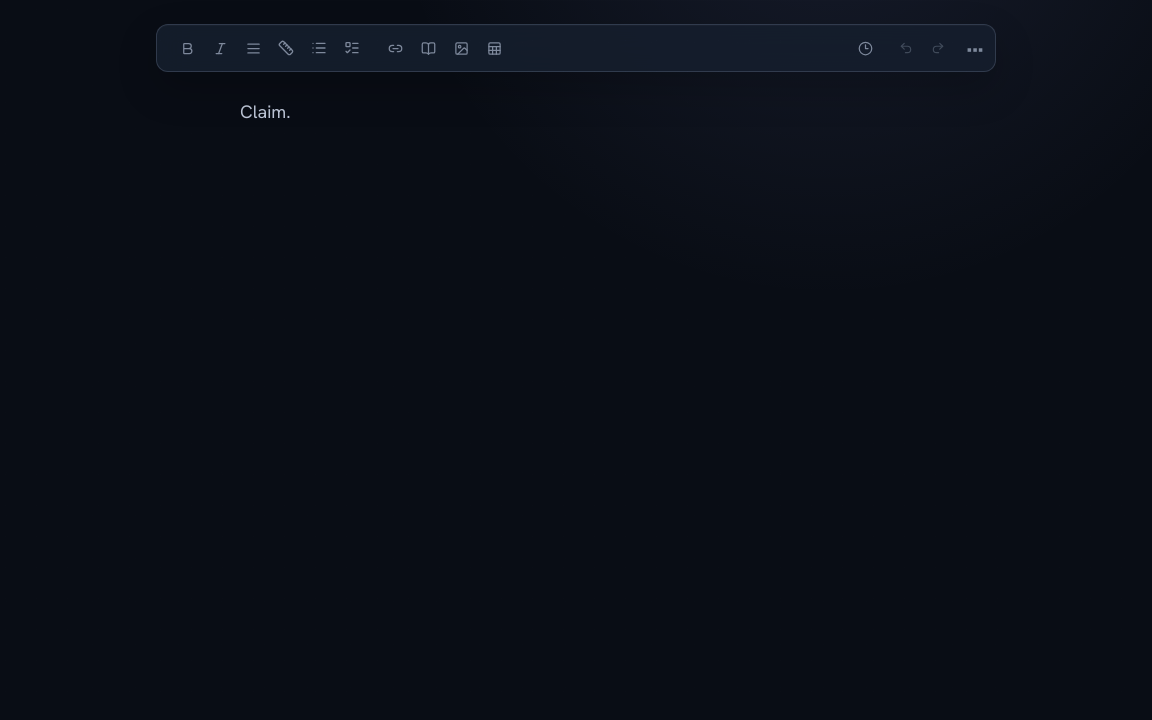
Scenario: RichNoteEditor source citations › lists attached sources first and writes a portable citation
Step 1. Click the button named "Cite a source" → (428, 48), box [413,33,443,63]
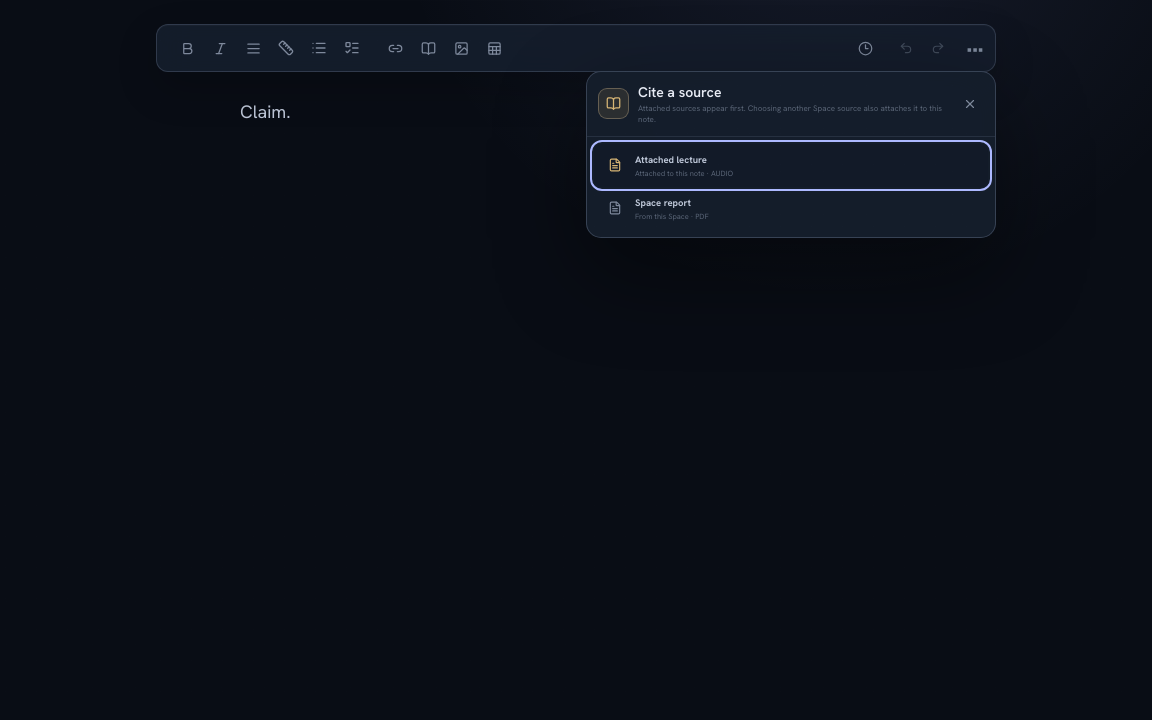
Now the button "Attached lecture Attached to this note · AUDIO" is shown, box [594,144,988,187]
Step 2. Press Escape in the dialog "Cite a source", box [586,71,996,238]
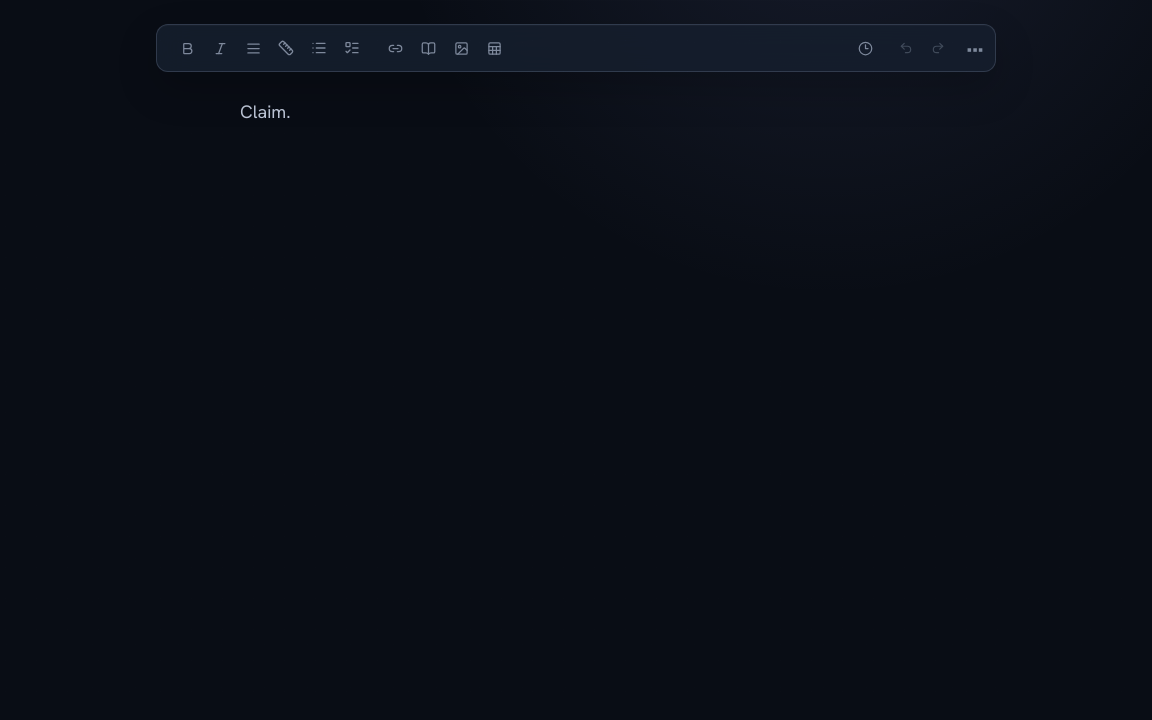
Now the text "Cite a source" is gone
Step 3. Click the button named "Cite a source" → (428, 48), box [413,33,443,63]
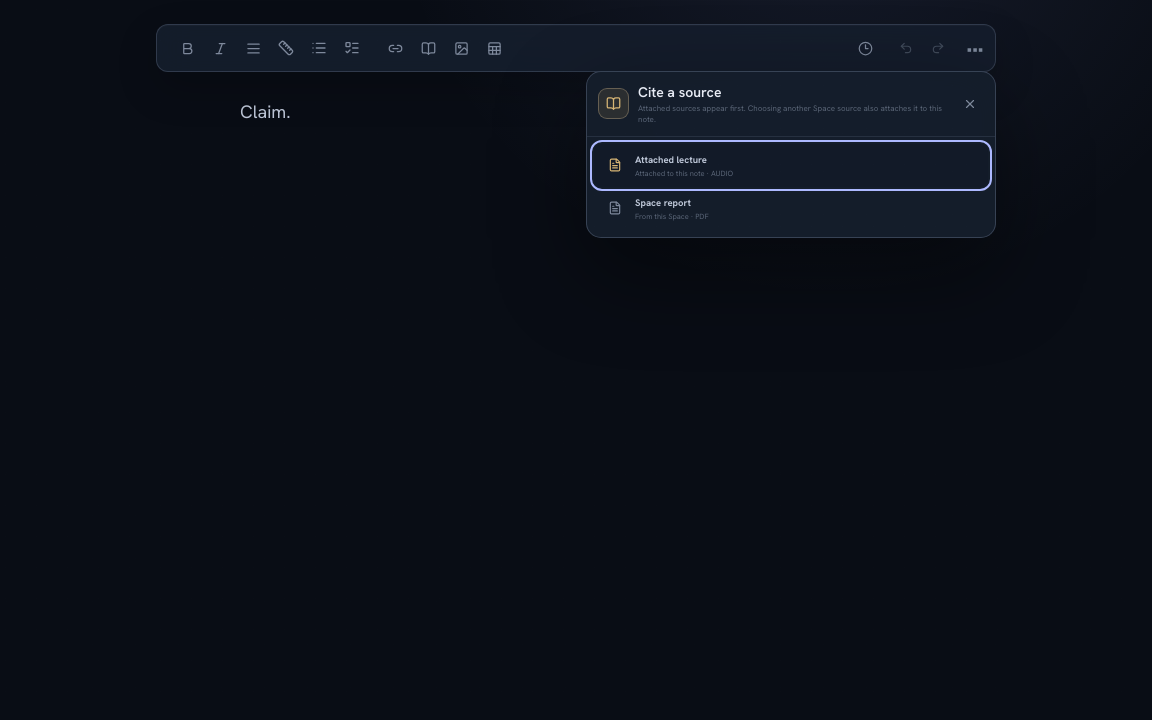
Step 4. Click the button "Space report From this Space · PDF" → (663, 202), box [594,187,988,230]
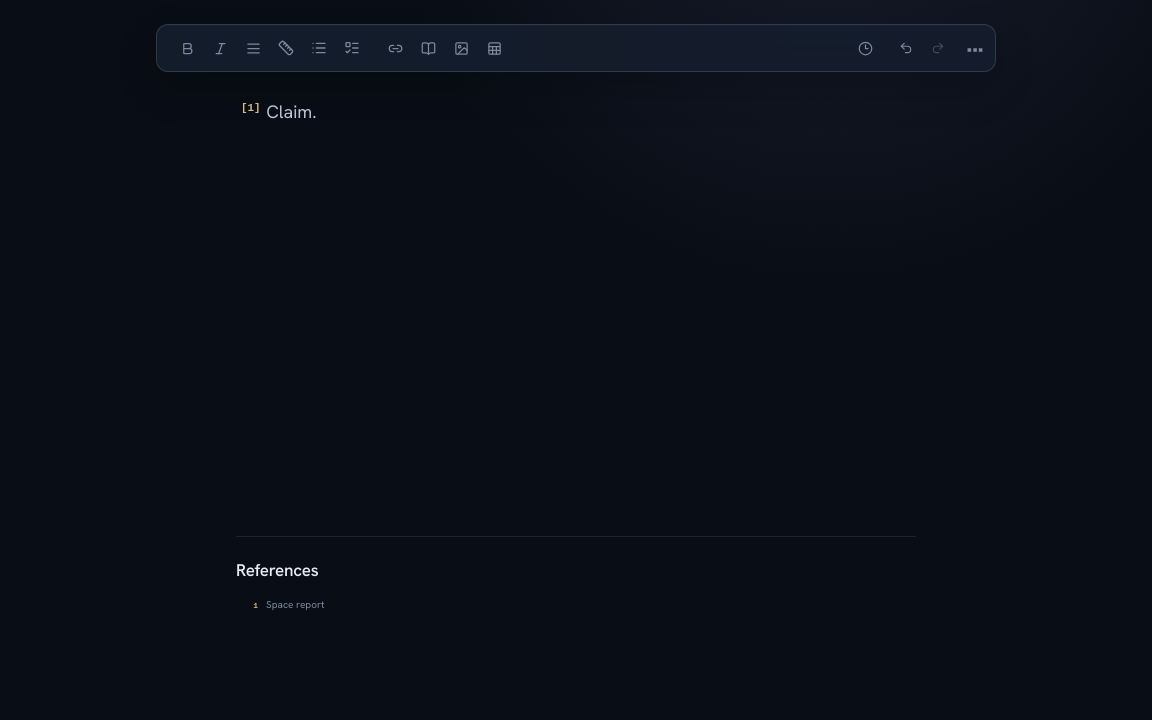
Now the text "Space report" is shown, box [266,598,324,611]
Now the heading "References" is shown, box [236,559,318,581]
